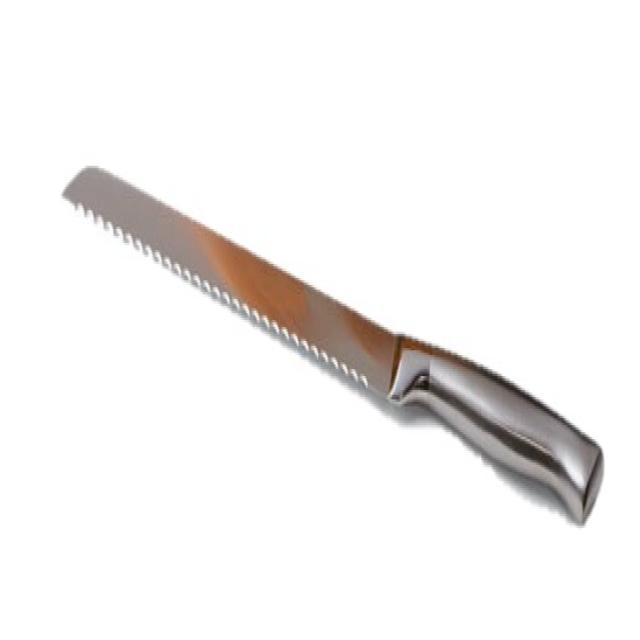knife: (61, 152, 608, 536)
